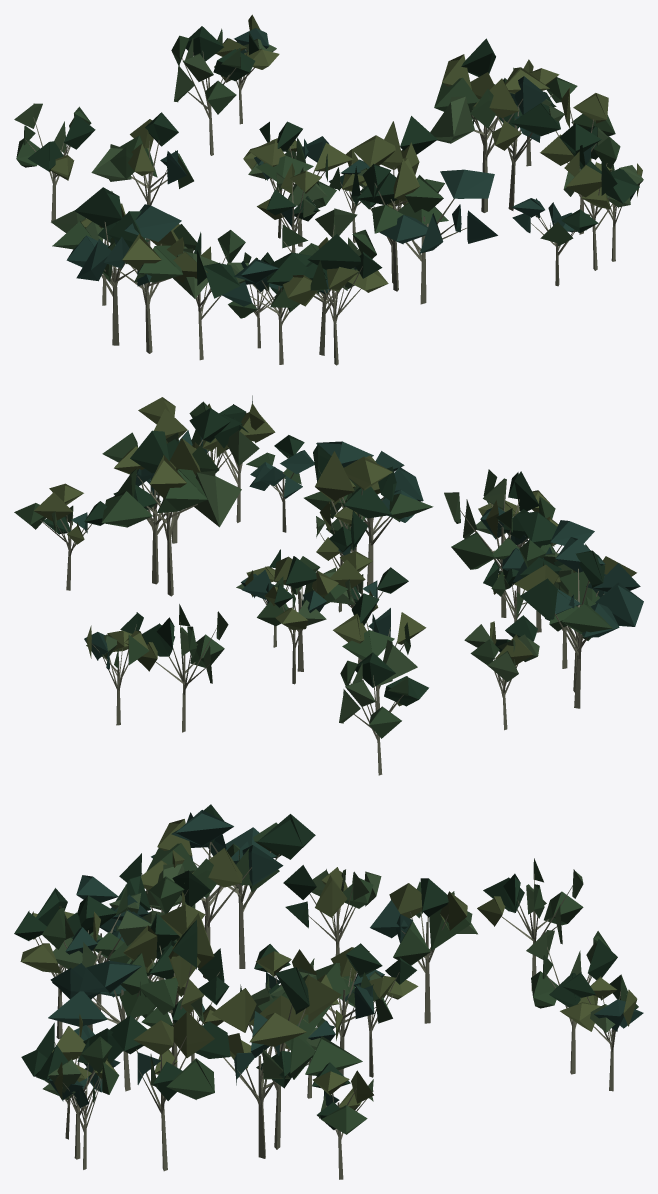
The model's file is forest_24_19.dae.
3 views of the same model, one above another, from view 1: azimuth 30°, elevation 25°; view 2: azimuth 150°, elevation 25°; view 3: azimuth 270°, elevation 25° (orthographic). The views are drawn at different scales.
Parts seen in each view (by area): view 1: Node; view 2: Node; view 3: Node.
Part boxes in pixels (<box>): Node: <box>14,14,643,365</box>; Node: <box>14,395,643,775</box>; Node: <box>14,804,643,1179</box>.
Bounding box in the file's own units: 11.43 × 9.89 × 3.79.
